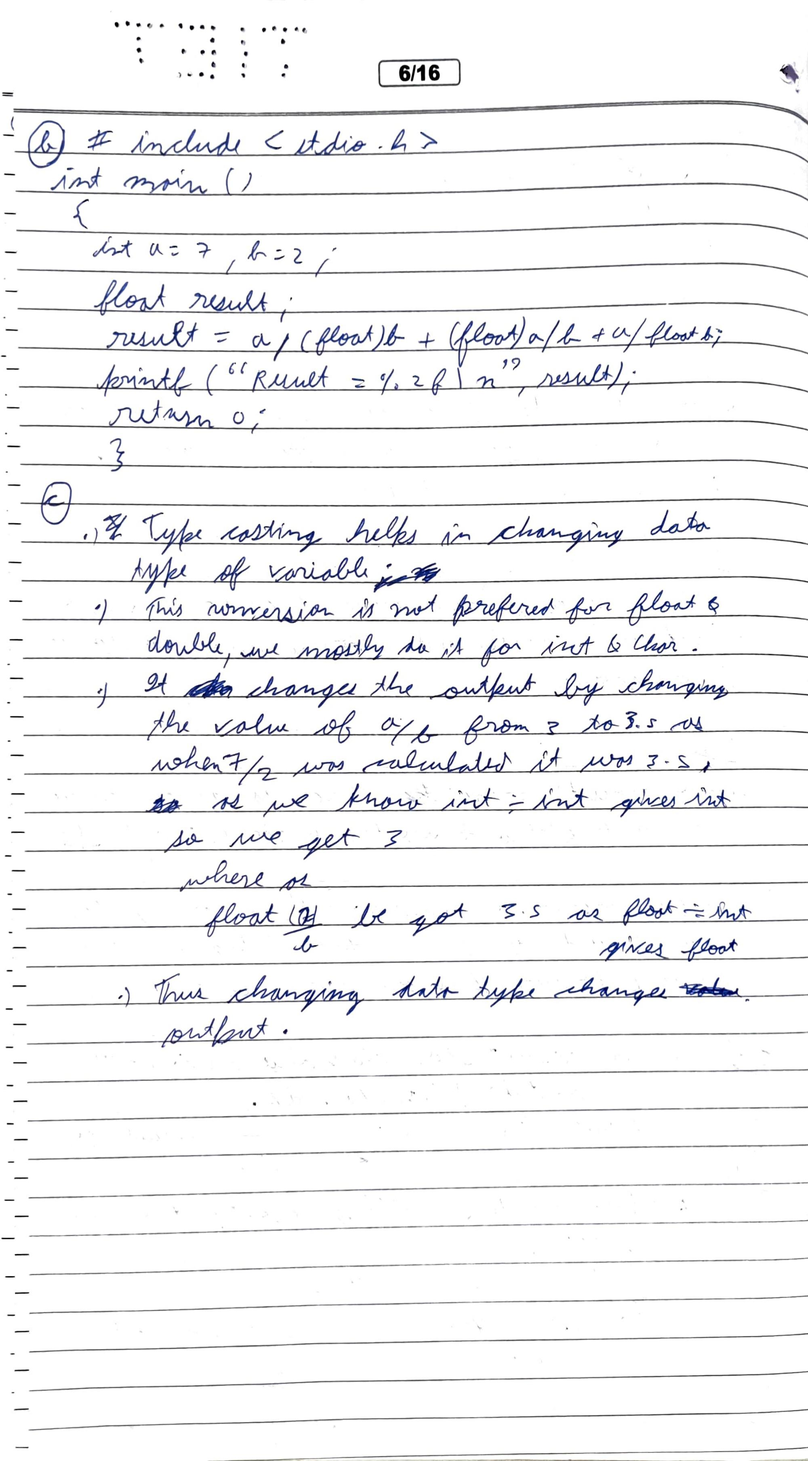cuttings: (373, 562, 442, 593), (677, 976, 742, 998), (182, 672, 233, 699), (145, 793, 183, 814), (102, 512, 128, 541)
